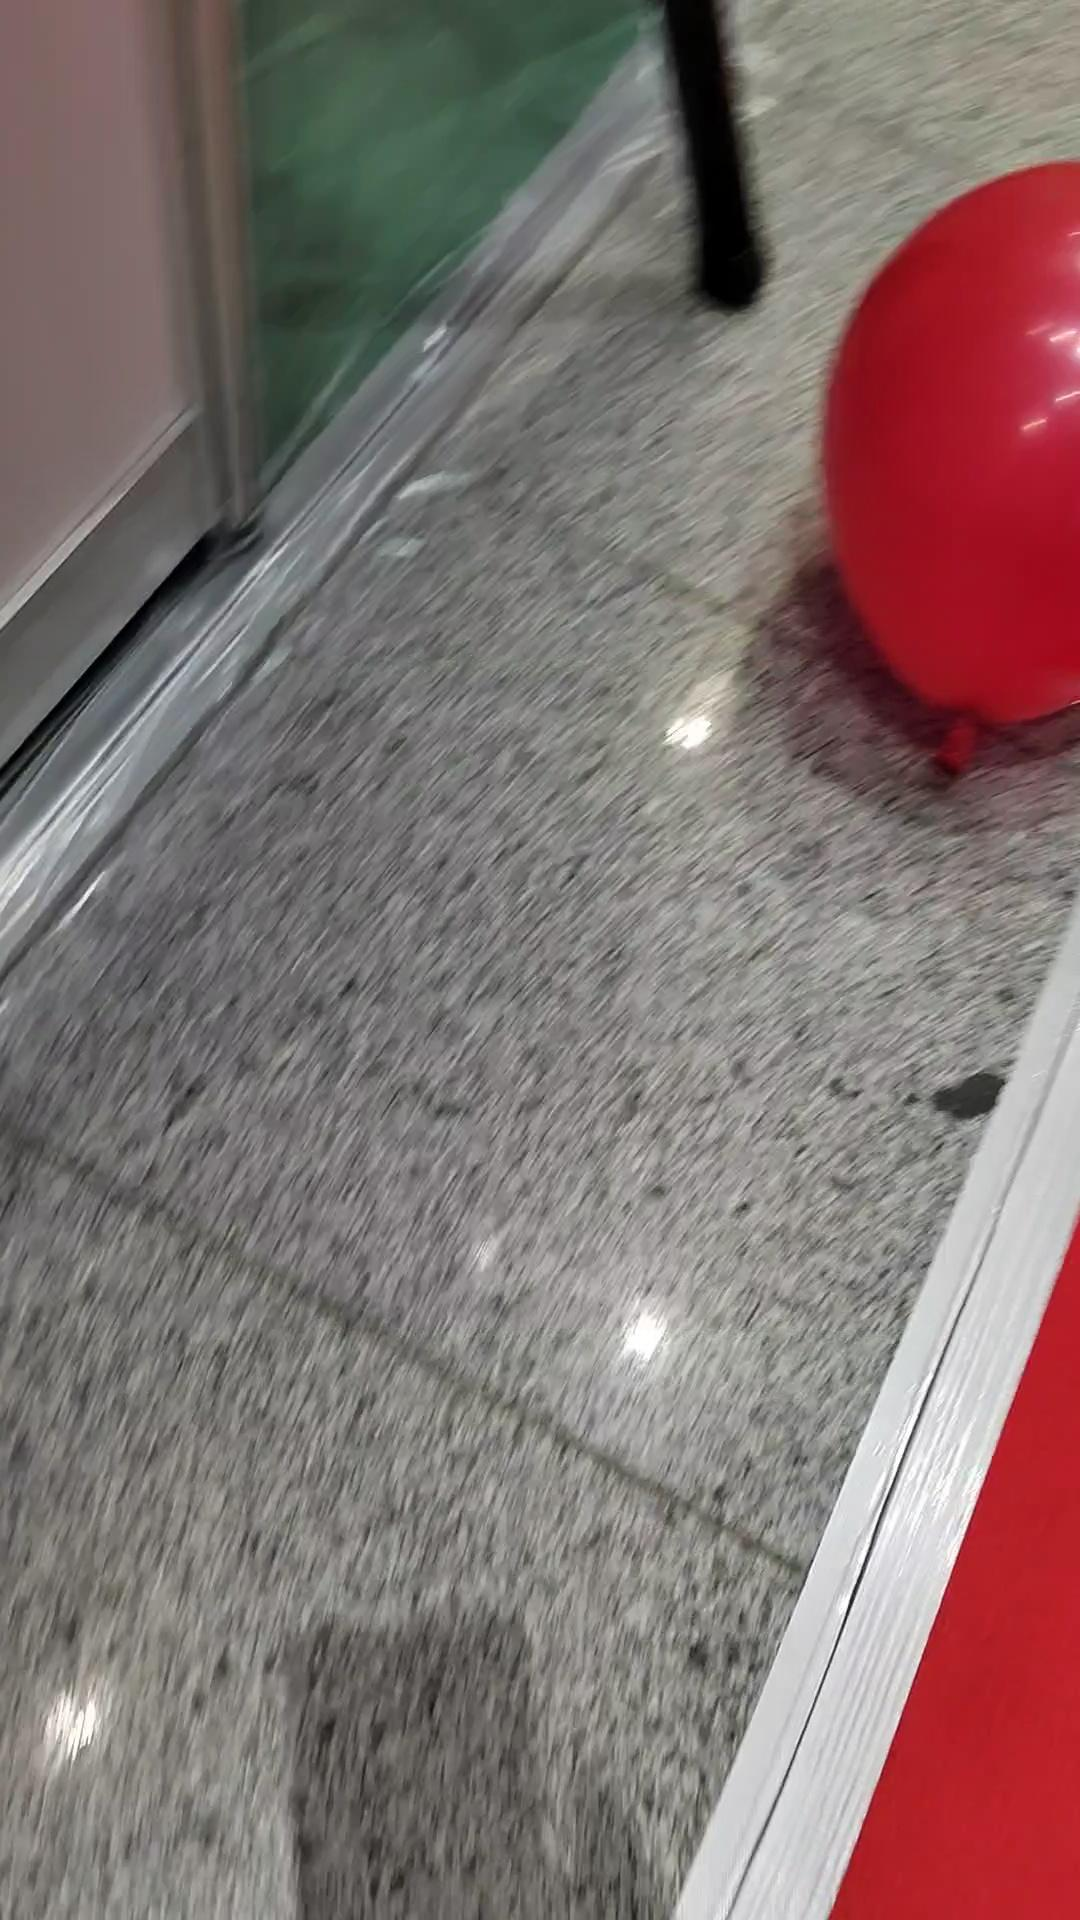red: (818, 151, 1077, 773)
